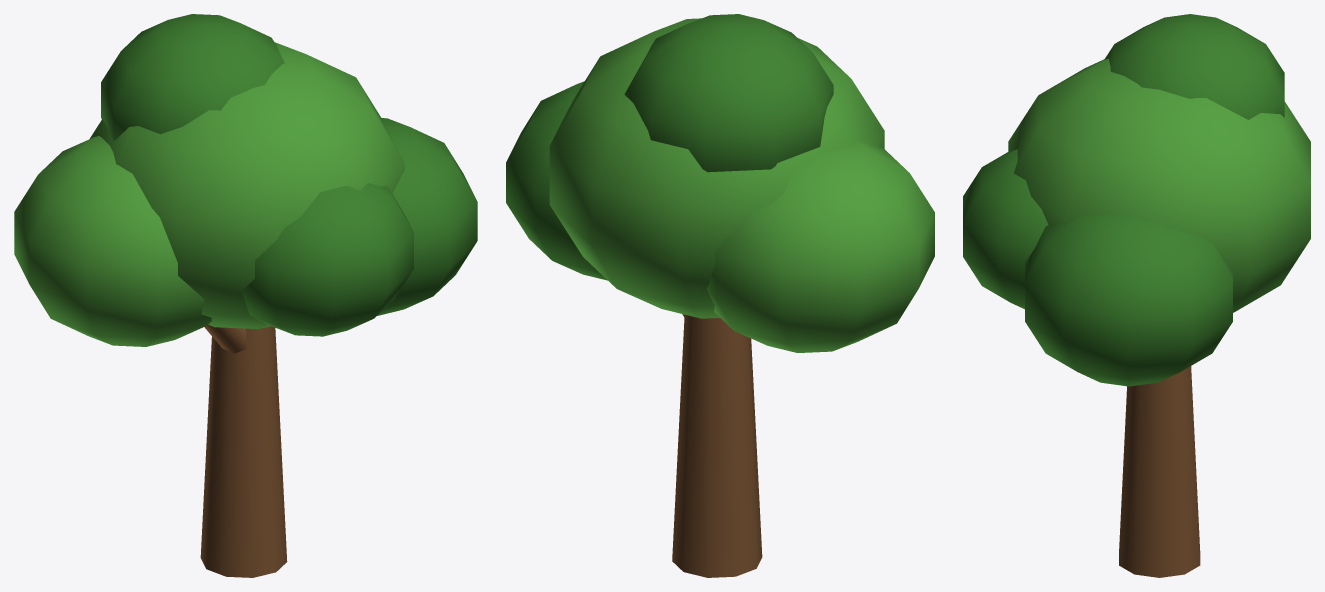
File: OakTree.glb
3 renders of one model, left to right at view 1: azimuth 30°, elevation 25°; view 2: azimuth 150°, elevation 25°; view 3: azimuth 270°, elevation 25°, orthographic. The views are drawn at different scales.
Visible parts, largest first — view 1: Blob0, Blob2, Trunk, Blob3, Blob4, Blob1; view 2: Blob0, Blob2, Blob4, Trunk, Blob1; view 3: Blob0, Blob1, Trunk, Blob4, Blob3.
Part boxes in pixels (x1=…): Blob0: x1=90, y1=42, x2=404, y2=329; Blob2: x1=14, y1=136, x2=211, y2=346; Trunk: x1=200, y1=325, x2=287, y2=577; Blob3: x1=242, y1=183, x2=413, y2=336; Blob4: x1=101, y1=14, x2=284, y2=140; Blob1: x1=377, y1=118, x2=477, y2=315; Blob0: x1=549, y1=18, x2=884, y2=318; Blob2: x1=707, y1=140, x2=934, y2=352; Blob4: x1=624, y1=14, x2=833, y2=172; Trunk: x1=672, y1=314, x2=762, y2=577; Blob1: x1=506, y1=81, x2=607, y2=280; Blob0: x1=1008, y1=58, x2=1310, y2=312; Blob1: x1=1025, y1=213, x2=1232, y2=386; Trunk: x1=1119, y1=366, x2=1200, y2=577; Blob4: x1=1104, y1=14, x2=1284, y2=119; Blob3: x1=963, y1=149, x2=1048, y2=309.
Bounding box in the file's own units: 4.54 × 5.65 × 3.41.
